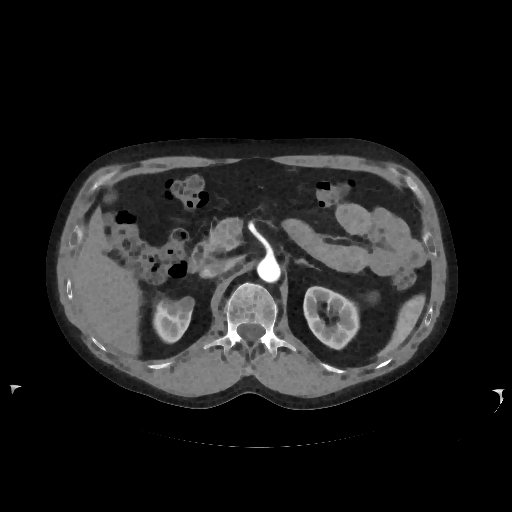Lesion: (174, 294, 196, 316)
